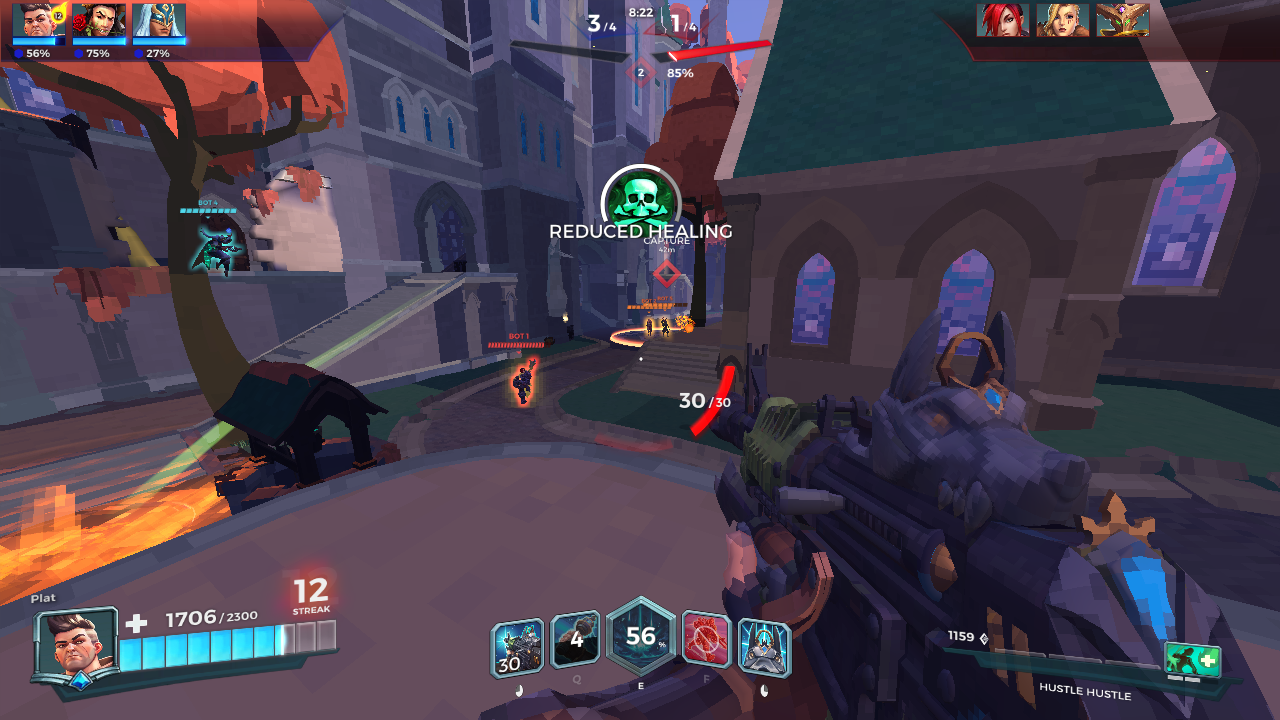model: (510, 360, 539, 405), (659, 315, 676, 337), (642, 316, 656, 334)
